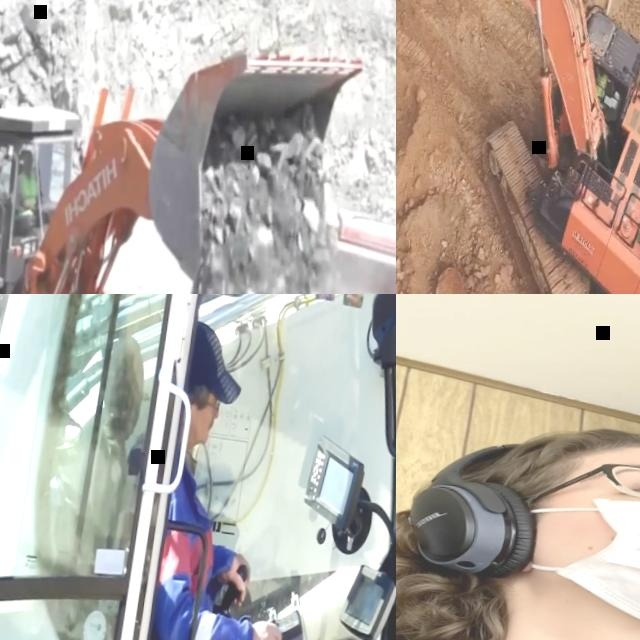Hardhat: (23, 149, 34, 161)
Mask: (518, 475, 640, 640)
NO-Hardhat: (432, 408, 640, 511), (183, 321, 230, 403)
NO-Mask: (190, 411, 215, 441), (24, 165, 31, 175)
Person: (119, 324, 326, 640), (396, 394, 640, 640), (10, 148, 45, 232), (594, 66, 609, 102)
Safety Vest: (149, 477, 230, 640), (16, 172, 40, 212), (595, 76, 608, 97)
machinery: (0, 294, 396, 640), (0, 0, 366, 294), (396, 0, 640, 294), (97, 175, 396, 294)
